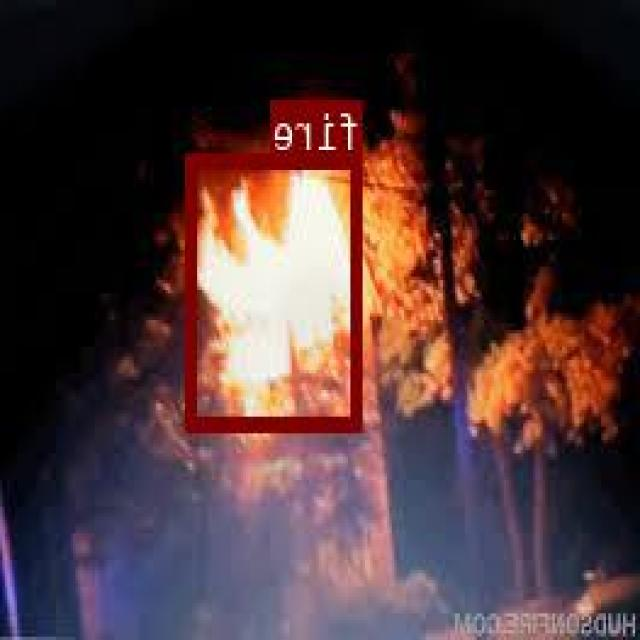fire: (189, 152, 364, 430)
